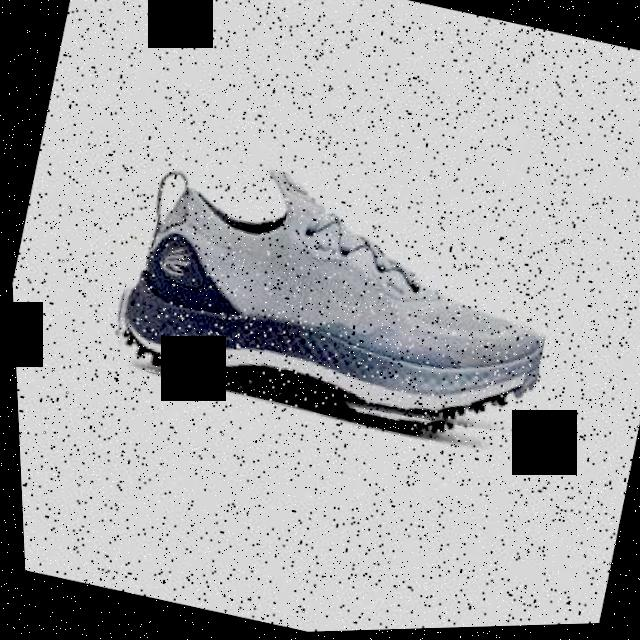shoe: (92, 134, 571, 467)
